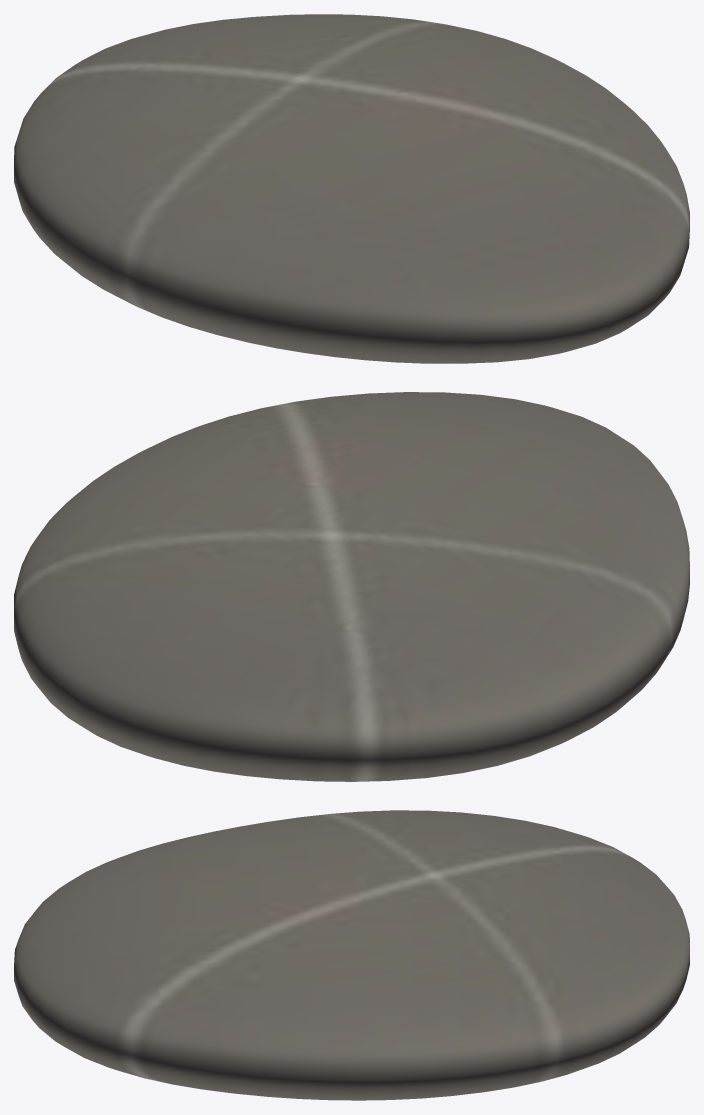
Rendered from gundu_batu.glb.
The picture shows the model from 3 angles, top to bottom: view 1: azimuth 30°, elevation 25°; view 2: azimuth 150°, elevation 25°; view 3: azimuth 270°, elevation 25°; orthographic projection. The views are drawn at different scales.
Parts seen in each view (by area): view 1: b_gundu_batu; view 2: b_gundu_batu; view 3: b_gundu_batu.
Part boxes in pixels (bbox=[...]): b_gundu_batu: bbox=[14, 14, 689, 363]; b_gundu_batu: bbox=[14, 392, 689, 781]; b_gundu_batu: bbox=[14, 810, 689, 1100].
Size of the model in its own units: 0.0528 by 0.016 by 0.0636.
1 material, 1 textured.
